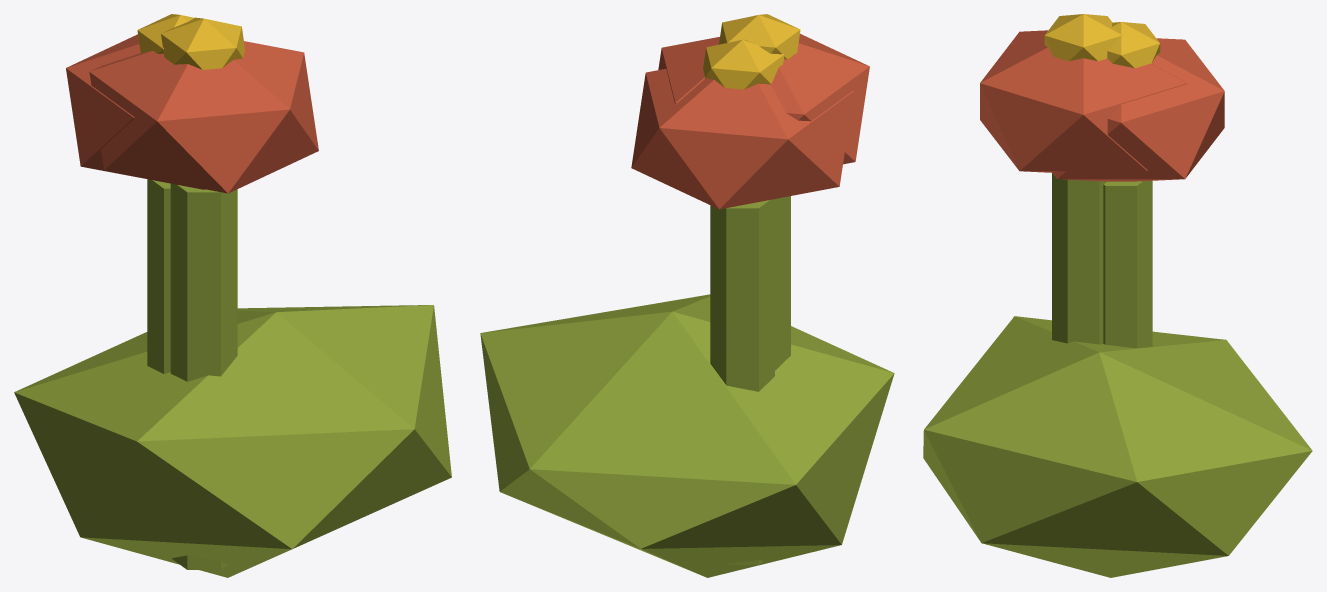
Rendered from prop_flowers_red.glb.
The picture shows the model from 3 angles, left to right: view 1: azimuth 30°, elevation 25°; view 2: azimuth 150°, elevation 25°; view 3: azimuth 270°, elevation 25°; orthographic projection. The views are drawn at different scales.
Parts seen in each view (by area): view 1: fre_leafmound, fre_head0, fre_stem0, fre_head1, fre_stem1, fre_eye0, fre_eye1; view 2: fre_leafmound, fre_head1, fre_stem1, fre_head0, fre_eye1, fre_stem0, fre_eye0; view 3: fre_leafmound, fre_head0, fre_head1, fre_stem0, fre_stem1, fre_eye0, fre_eye1.
Part boxes in pixels (left/top/right/bottom): fre_leafmound: left=14, top=305, right=451, bottom=577; fre_head0: left=89, top=41, right=318, bottom=193; fre_stem0: left=170, top=183, right=237, bottom=569; fre_head1: left=66, top=34, right=205, bottom=189; fre_stem1: left=147, top=179, right=170, bottom=373; fre_eye0: left=161, top=17, right=244, bottom=69; fre_eye1: left=137, top=14, right=194, bottom=53; fre_leafmound: left=480, top=294, right=894, bottom=577; fre_head1: left=631, top=69, right=853, bottom=209; fre_stem1: left=710, top=199, right=774, bottom=564; fre_head0: left=658, top=33, right=869, bottom=164; fre_eye1: left=703, top=39, right=784, bottom=89; fre_stem0: left=775, top=196, right=790, bottom=370; fre_eye0: left=719, top=14, right=800, bottom=59; fre_leafmound: left=923, top=316, right=1312, bottom=577; fre_head0: left=980, top=30, right=1186, bottom=172; fre_head1: left=1052, top=38, right=1224, bottom=181; fre_stem0: left=1052, top=173, right=1106, bottom=344; fre_stem1: left=1103, top=180, right=1152, bottom=348; fre_eye0: left=1044, top=14, right=1122, bottom=61; fre_eye1: left=1107, top=22, right=1160, bottom=68.
Size of the model in its own units: 0.2834 by 0.4209 by 0.2719.
